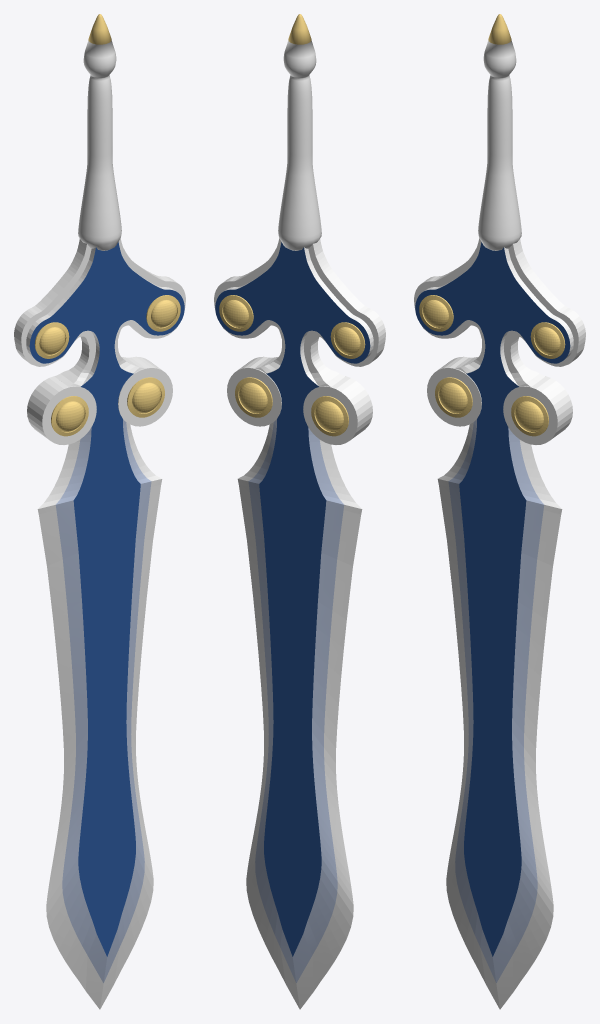
File: Sword.fbx
3 views of the same model, side by side, from view 1: azimuth 30°, elevation 25°; view 2: azimuth 150°, elevation 25°; view 3: azimuth 330°, elevation 25° (orthographic).
Visible parts, largest first — view 1: BezierCurve, BezierCurve.002, Sphere, Sphere.001; view 2: BezierCurve, BezierCurve.002, Sphere, Sphere.001; view 3: BezierCurve, BezierCurve.002, Sphere, Sphere.001.
Boxes of the visible parts, <box> form: BezierCurve: <box>14,238,185,1009</box>; BezierCurve.002: <box>78,14,121,250</box>; Sphere: <box>27,356,172,444</box>; Sphere.001: <box>34,295,180,358</box>; BezierCurve: <box>214,238,385,1009</box>; BezierCurve.002: <box>278,14,321,250</box>; Sphere: <box>227,356,372,444</box>; Sphere.001: <box>219,295,365,358</box>; BezierCurve: <box>414,238,585,1009</box>; BezierCurve.002: <box>478,14,521,250</box>; Sphere: <box>427,356,572,444</box>; Sphere.001: <box>419,295,565,358</box>.
Bounding box in the file's own units: 102 × 588 × 25.52.
